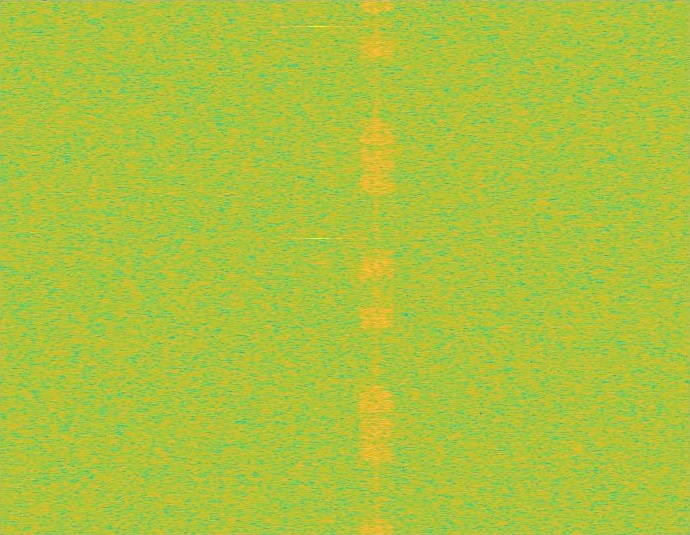DSSS: (374, 0, 379, 534)
LTE: (359, 0, 394, 534)
Radar: (311, 0, 325, 534)
